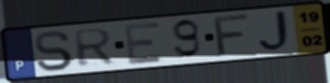9: (169, 19, 204, 61)
E: (122, 20, 166, 66)
F: (213, 12, 253, 59)
J: (257, 8, 296, 54)
R: (72, 27, 117, 69)
S: (33, 29, 75, 73)
